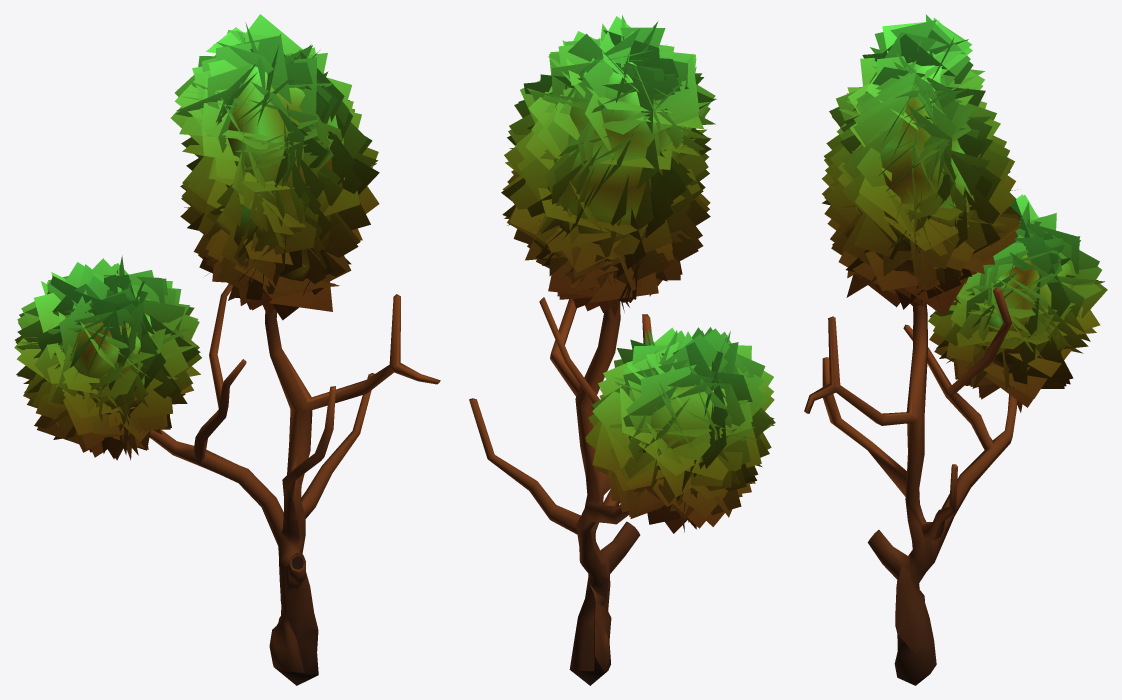
The model's file is Forest_Tree_3B.fbx.
The picture shows the model from 3 angles, left to right: view 1: azimuth 30°, elevation 25°; view 2: azimuth 150°, elevation 25°; view 3: azimuth 270°, elevation 25°; orthographic projection. The views are drawn at different scales.
Parts seen in each view (by area): view 1: Forest_Tree_3B; view 2: Forest_Tree_3B; view 3: Forest_Tree_3B.
Part boxes in pixels (x1,y1,x2,y2): Forest_Tree_3B: [14, 14, 440, 685]; Forest_Tree_3B: [469, 15, 775, 685]; Forest_Tree_3B: [804, 14, 1107, 685].
Size of the model in its own units: 378 by 748 by 318.
